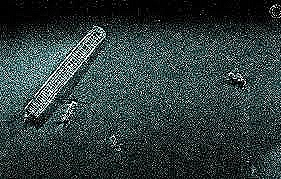ship: (23, 25, 107, 120)
